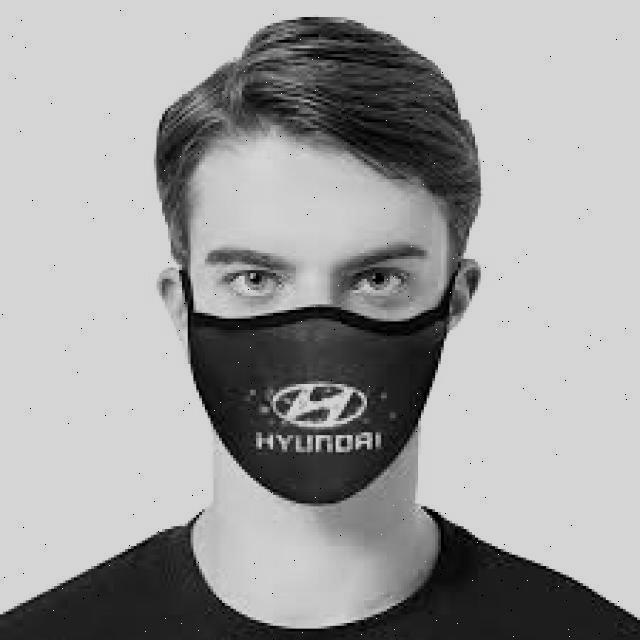fake: (184, 296, 457, 523)
real: (189, 127, 448, 515)
